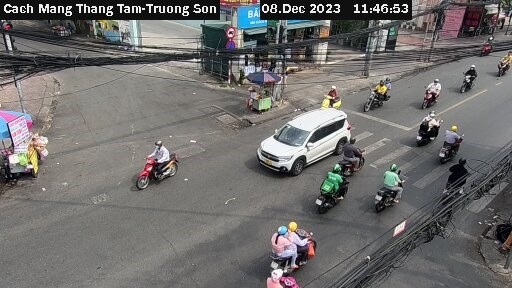car: (255, 106, 349, 178)
motorbike: (128, 143, 196, 193), (262, 216, 317, 273), (371, 166, 418, 213), (310, 166, 354, 213), (406, 108, 442, 147), (437, 159, 470, 199), (359, 77, 396, 110), (335, 143, 370, 177), (450, 59, 479, 98), (431, 126, 463, 160), (415, 78, 447, 112), (469, 32, 496, 60), (317, 85, 347, 109), (493, 47, 512, 79)
